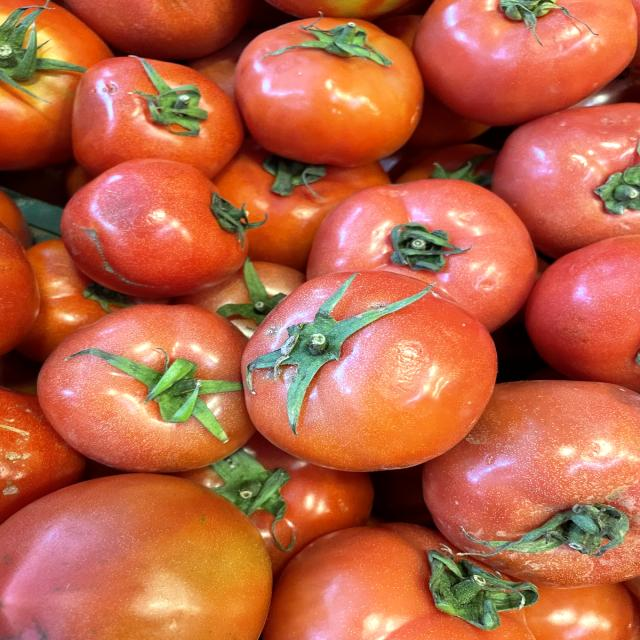tomato: (219, 247, 512, 476), (16, 295, 268, 475), (52, 153, 276, 304), (231, 7, 433, 172), (63, 50, 257, 182)
